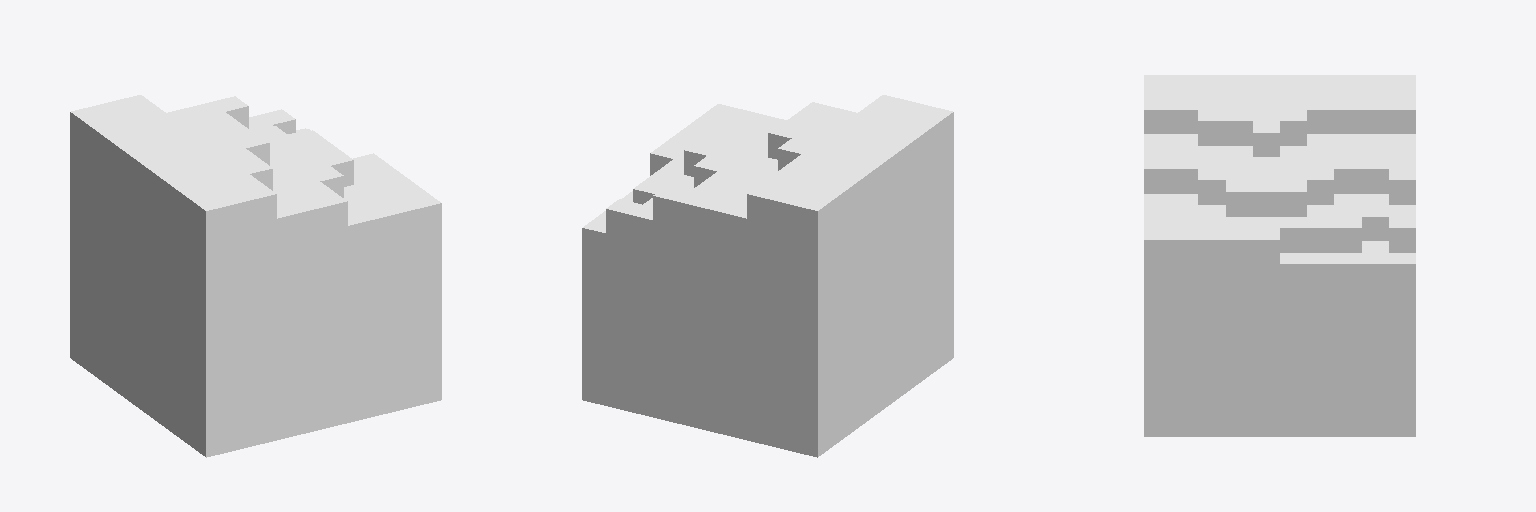
Rendered from Lehm_Rand-04.obj.
The picture shows the model from 3 angles: view 1: azimuth 30°, elevation 25°; view 2: azimuth 150°, elevation 25°; view 3: azimuth 270°, elevation 25°; orthographic projection.
Parts seen in each view (by area): view 1: object 1; view 2: object 1; view 3: object 1.
Boxes of the visible parts, box(x1,y1,x2,y2) form: object 1: box(70, 95, 441, 457); object 1: box(582, 95, 953, 457); object 1: box(1144, 75, 1415, 436).
Size of the model in its own units: 1 by 1 by 1.